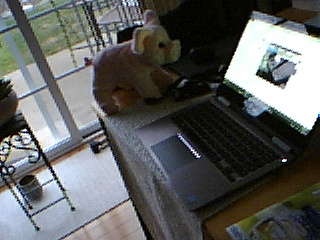piggy: (83, 9, 182, 116)
